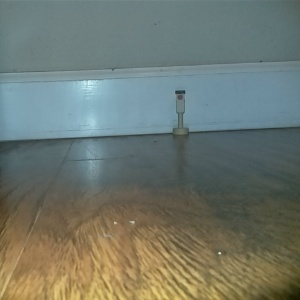traffic light red: (172, 87, 190, 137)
